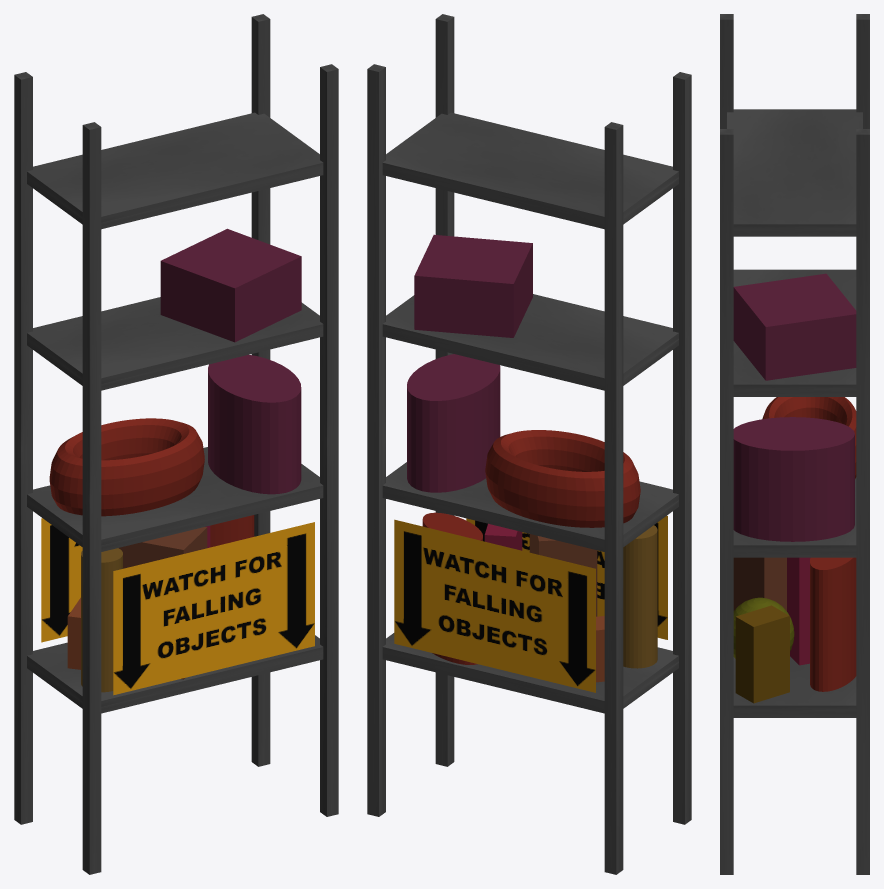
Rendered from shelf_crawlspace.fbx.
3 renders of one model, left to right at view 1: azimuth 30°, elevation 25°; view 2: azimuth 150°, elevation 25°; view 3: azimuth 270°, elevation 25°, orthographic.
Visible parts, largest first — view 1: Warning Sign, Shelf.003, Leg.002, Leg, Leg.003, Shelf.002, Cube.006, Cylinder.002, Torus, Shelf.001, Shelf, Leg.001 (+5 smaller); view 2: Warning Sign.001, Shelf.003, Leg.003, Leg.001, Leg.002, Shelf.002, Cylinder.002, Torus, Cube.006, Shelf.001, Shelf, Leg (+5 smaller); view 3: Shelf.003, Cylinder.002, Cube.006, Leg, Leg.001, Cylinder.001, Shelf.002, Cube.001, Shelf, Shelf.001, Cube, Cube.003 (+4 smaller).
Part boxes in pixels (x1,y1,x2,y2): Warning Sign: (113, 522, 314, 695); Shelf.003: (27, 112, 323, 229); Leg.002: (82, 122, 101, 874); Leg: (320, 64, 338, 816); Leg.003: (14, 72, 32, 824); Shelf.002: (27, 297, 323, 390); Cube.006: (160, 228, 301, 342); Cylinder.002: (208, 354, 301, 494); Torus: (49, 418, 204, 516); Shelf.001: (27, 447, 323, 551); Shelf: (27, 635, 323, 713); Leg.001: (251, 14, 270, 766); Warning Sign.001: (394, 519, 595, 692); Shelf.003: (382, 112, 678, 229); Leg.003: (604, 122, 623, 874); Leg.001: (367, 64, 385, 816); Leg.002: (673, 72, 691, 824); Shelf.002: (382, 294, 678, 390); Cylinder.002: (407, 354, 500, 492); Torus: (485, 430, 640, 527); Cube.006: (414, 234, 532, 337); Shelf.001: (382, 462, 678, 551); Shelf: (382, 633, 678, 713); Leg: (435, 14, 454, 766); Shelf.003: (727, 109, 862, 236); Cylinder.002: (733, 417, 854, 541); Cube.006: (733, 273, 856, 380); Leg: (720, 129, 733, 874); Leg.001: (856, 129, 869, 874); Cylinder.001: (810, 557, 856, 691); Shelf.002: (733, 269, 856, 396); Cube.001: (735, 605, 789, 703); Shelf: (733, 656, 856, 717); Shelf.001: (733, 477, 856, 557); Cube: (733, 557, 786, 610); Cube.003: (787, 557, 810, 665).
Bounding box in the file's own units: 210 × 600 × 110.
